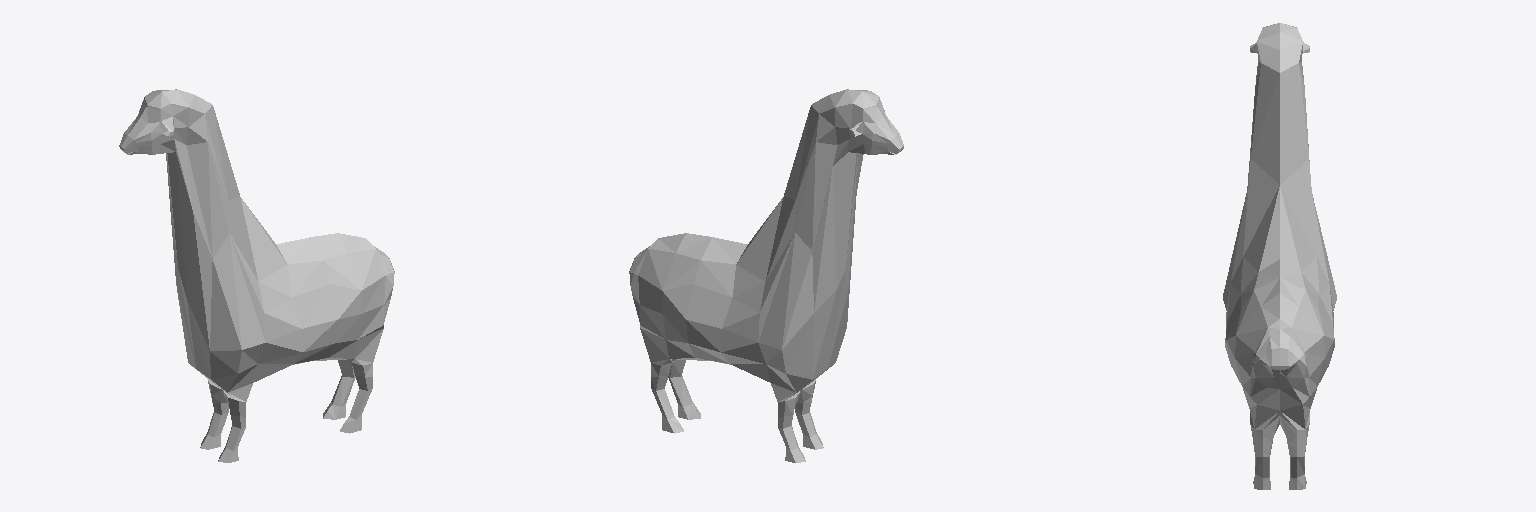
File: alpaca.obj
3 views of the same model, side by side, from view 1: azimuth 30°, elevation 25°; view 2: azimuth 150°, elevation 25°; view 3: azimuth 270°, elevation 25° (orthographic).
Parts seen in each view (by area): view 1: Low_poly_sheep.001; view 2: Low_poly_sheep.001; view 3: Low_poly_sheep.001.
Boxes of the visible parts, x1,y1,x2,y2 form: Low_poly_sheep.001: [119, 89, 394, 462]; Low_poly_sheep.001: [629, 89, 903, 462]; Low_poly_sheep.001: [1223, 23, 1336, 489].
Size of the model in its own units: 1.99 by 2.65 by 0.7381.